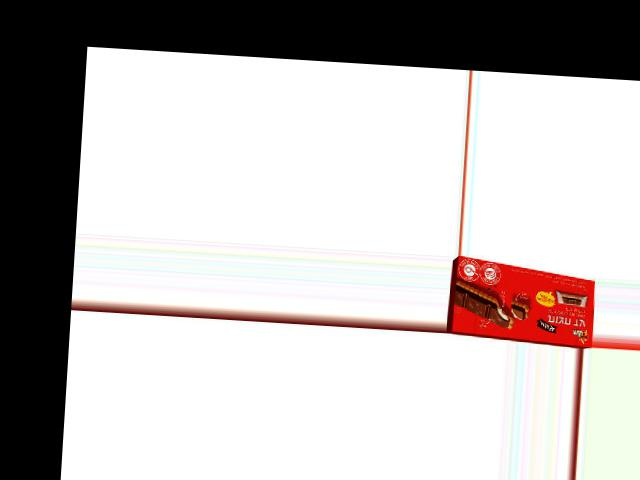chocolate: (447, 264, 597, 342)
